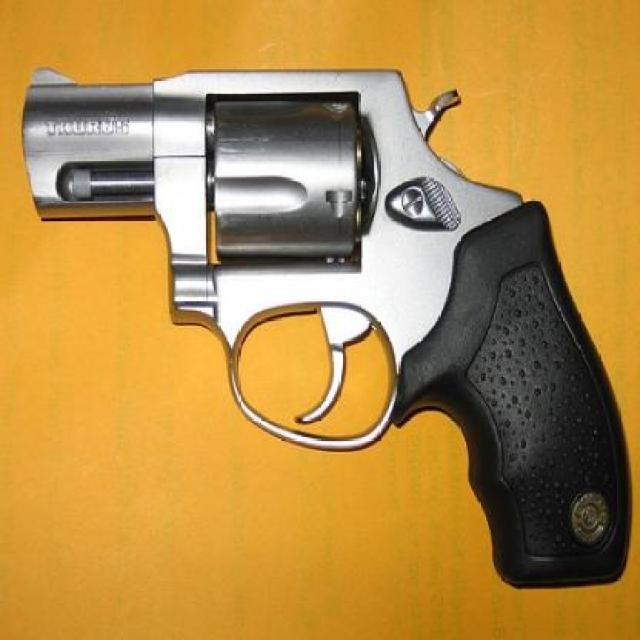guns: (3, 33, 640, 625)
